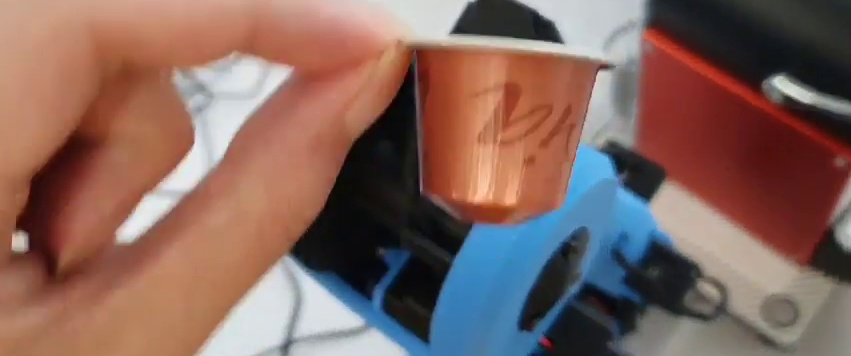capsule_6: (396, 33, 617, 230)
